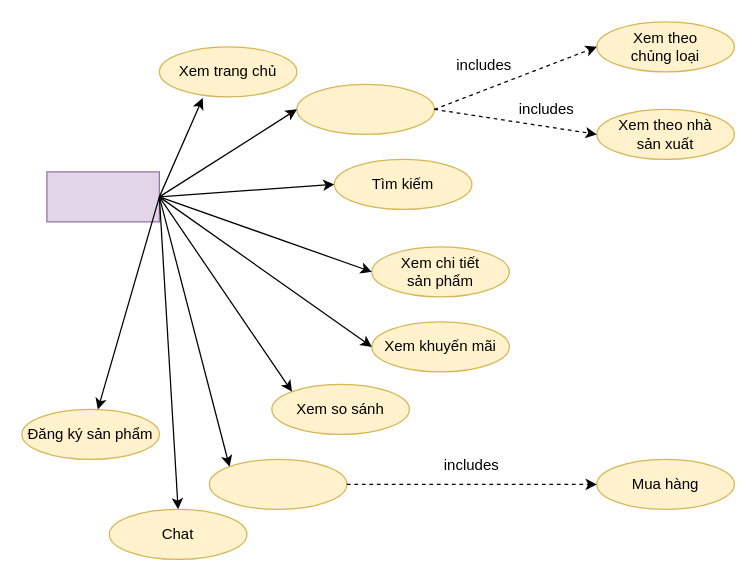
This 756x581 diagram has some shape labels left out. The shapes that lost their labels are listed below. From the top down, each one's centre as x and y in pixels, then its label:
[365,108]: Xem sản phẩm
[102,196]: Khách hàng tiềmnăng
[277,483]: Quản lý giỏ hàng
